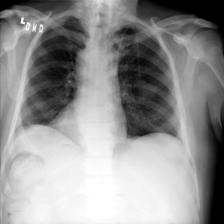normal: (11, 10, 186, 156)
